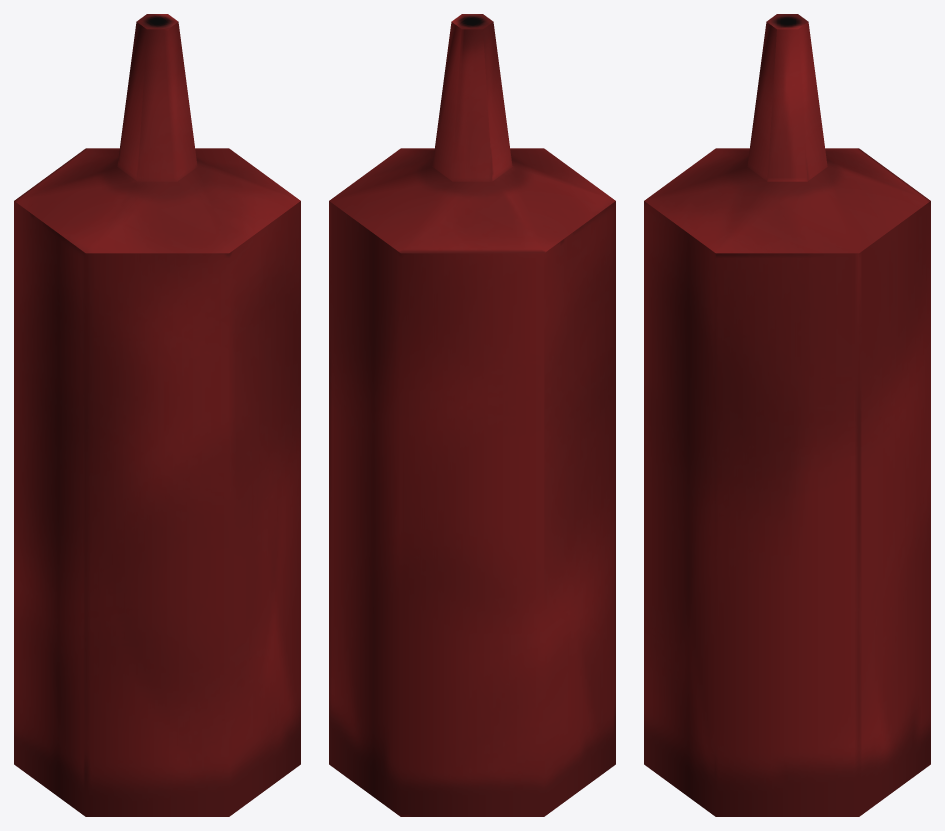
The model's file is Ketchup.glb.
The picture shows the model from 3 angles, left to right: view 1: azimuth 30°, elevation 25°; view 2: azimuth 150°, elevation 25°; view 3: azimuth 270°, elevation 25°; orthographic projection.
Visible parts, largest first — view 1: ketchup; view 2: ketchup; view 3: ketchup.
Part boxes in pixels (x1,y1,x2,y2): ketchup: [14, 14, 300, 816]; ketchup: [329, 14, 615, 816]; ketchup: [644, 14, 930, 816].
Bounding box in the file's own units: 0.0913 × 0.3012 × 0.1054.
1 material, 1 textured.
